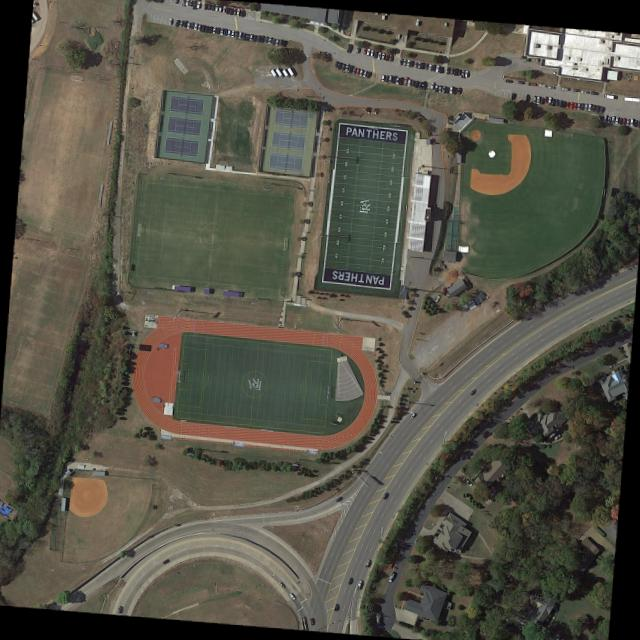small-vehicle: (286, 67, 294, 78), (269, 68, 277, 79), (281, 69, 289, 79), (275, 68, 283, 78), (387, 572, 394, 583), (288, 592, 296, 601), (355, 580, 362, 590), (603, 94, 613, 100), (173, 19, 180, 27), (469, 388, 476, 396), (382, 492, 389, 500), (277, 582, 285, 589), (333, 603, 339, 612), (364, 559, 370, 568), (115, 605, 121, 614), (375, 52, 381, 61), (347, 577, 353, 585), (339, 63, 345, 71), (354, 45, 360, 53), (405, 59, 410, 68), (527, 82, 536, 87), (402, 77, 407, 86), (191, 1, 196, 10), (333, 60, 338, 69), (347, 65, 352, 74), (372, 50, 377, 59), (388, 53, 393, 62), (346, 44, 351, 53), (553, 434, 560, 440), (465, 480, 471, 487), (335, 497, 342, 503), (445, 67, 450, 75), (434, 65, 439, 73), (589, 91, 597, 96), (560, 87, 568, 92), (515, 80, 523, 85), (429, 82, 434, 90), (391, 76, 396, 84), (195, 1, 200, 9), (189, 22, 194, 30), (388, 561, 393, 569), (309, 618, 314, 626), (217, 4, 222, 12), (336, 62, 341, 70), (361, 70, 366, 78), (365, 71, 370, 79), (362, 47, 367, 55), (365, 48, 370, 56), (384, 53, 389, 61), (579, 90, 588, 94), (183, 20, 187, 29), (409, 413, 415, 419), (162, 559, 168, 565), (409, 60, 414, 67), (438, 66, 443, 73), (413, 81, 418, 88), (618, 118, 623, 125), (595, 106, 600, 113), (207, 27, 212, 34), (221, 6, 226, 13), (180, 0, 185, 7), (228, 8, 233, 15), (239, 10, 244, 17), (351, 67, 356, 74), (354, 68, 359, 75), (240, 33, 245, 40), (427, 64, 431, 72), (571, 89, 579, 93), (453, 68, 457, 76), (398, 77, 402, 85), (406, 79, 410, 87), (410, 79, 414, 87), (421, 82, 425, 90), (441, 86, 445, 94), (448, 86, 452, 94), (452, 87, 456, 95), (456, 87, 460, 95), (463, 70, 467, 78), (504, 79, 512, 83), (614, 116, 618, 124), (610, 116, 614, 124), (554, 99, 558, 107), (561, 101, 565, 109), (576, 103, 580, 111), (207, 2, 211, 10), (203, 2, 207, 10), (200, 25, 204, 33), (225, 7, 229, 15), (232, 8, 236, 16), (235, 9, 239, 17), (380, 74, 384, 82), (215, 27, 219, 35), (344, 64, 348, 72), (358, 68, 362, 76), (369, 49, 373, 57), (380, 53, 384, 61), (233, 31, 237, 39), (263, 36, 267, 44), (278, 39, 282, 47), (431, 65, 435, 72), (420, 63, 424, 70), (416, 62, 420, 69), (412, 62, 416, 69), (402, 59, 406, 66), (398, 59, 402, 66), (547, 85, 554, 89), (538, 84, 545, 88), (394, 78, 398, 85), (417, 82, 421, 89), (437, 86, 441, 93), (445, 87, 449, 94), (456, 69, 460, 76), (633, 120, 637, 127), (606, 117, 610, 124), (539, 98, 543, 105), (568, 102, 572, 109), (580, 104, 584, 111), (583, 104, 587, 111), (591, 105, 595, 112), (387, 76, 391, 83), (214, 4, 218, 11), (210, 4, 214, 11), (188, 0, 192, 7), (178, 21, 182, 28), (193, 23, 197, 30), (196, 25, 200, 32), (282, 41, 286, 48), (204, 26, 208, 33), (248, 35, 252, 42), (219, 28, 223, 35), (222, 29, 226, 36), (226, 30, 230, 37), (244, 34, 248, 41), (252, 35, 256, 42), (256, 35, 260, 42), (260, 36, 264, 43), (267, 37, 271, 44), (547, 97, 550, 106), (449, 68, 453, 74), (460, 70, 463, 78), (622, 118, 625, 126), (565, 101, 568, 109), (551, 99, 554, 107), (602, 116, 606, 122), (573, 102, 576, 110), (383, 76, 387, 82), (184, 0, 188, 6), (168, 18, 171, 26), (230, 30, 233, 38), (274, 40, 278, 46), (424, 63, 427, 70), (434, 85, 437, 92), (525, 95, 528, 102), (532, 97, 535, 104), (626, 119, 629, 126), (629, 119, 632, 126), (637, 121, 640, 128), (536, 97, 539, 104), (544, 96, 547, 103), (558, 100, 561, 107), (587, 104, 590, 111), (599, 107, 602, 114), (186, 22, 189, 29), (212, 27, 215, 34), (238, 32, 241, 39), (271, 38, 274, 45), (511, 94, 514, 100)
